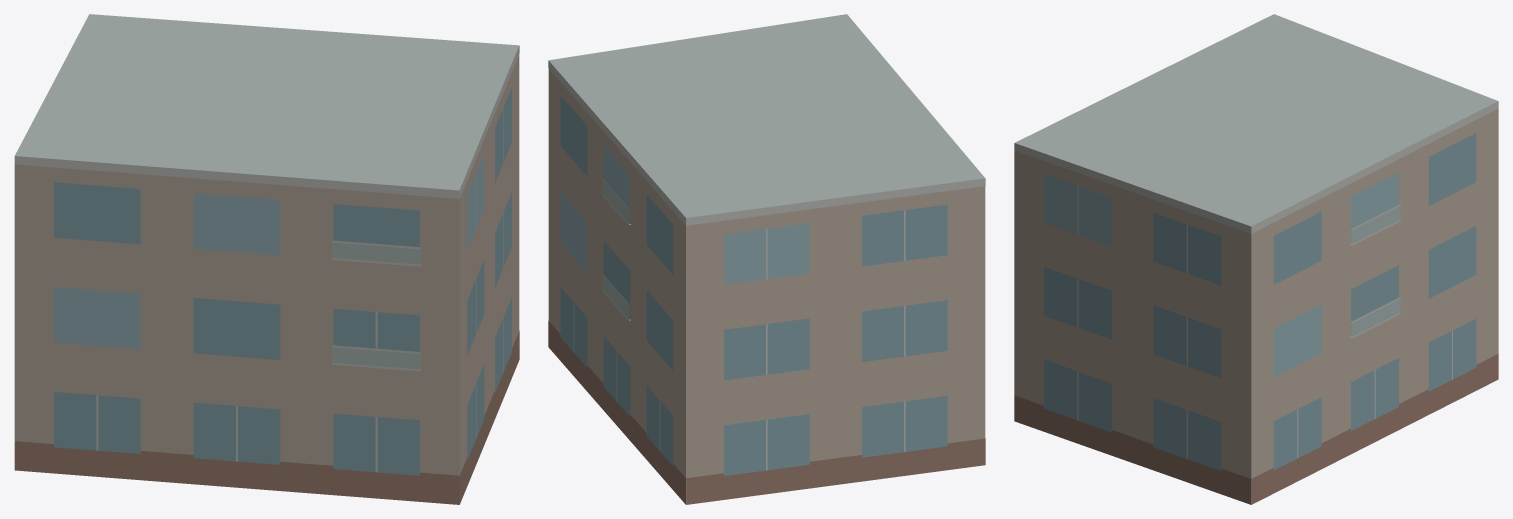
File: survey-upis-32679195.glb
3 views of the same model, side by side, from view 1: azimuth 30°, elevation 25°; view 2: azimuth 150°, elevation 25°; view 3: azimuth 270°, elevation 25° (orthographic). The views are drawn at different scales.
Visible parts, largest first — view 1: survey-upis-32679195.tmp; view 2: survey-upis-32679195.tmp; view 3: survey-upis-32679195.tmp.
Part boxes in pixels (<box>): survey-upis-32679195.tmp: <box>14,14,519,504</box>; survey-upis-32679195.tmp: <box>548,14,985,504</box>; survey-upis-32679195.tmp: <box>1014,14,1498,504</box>.
Bounding box in the file's own units: 14.99 × 9.15 × 14.43.
